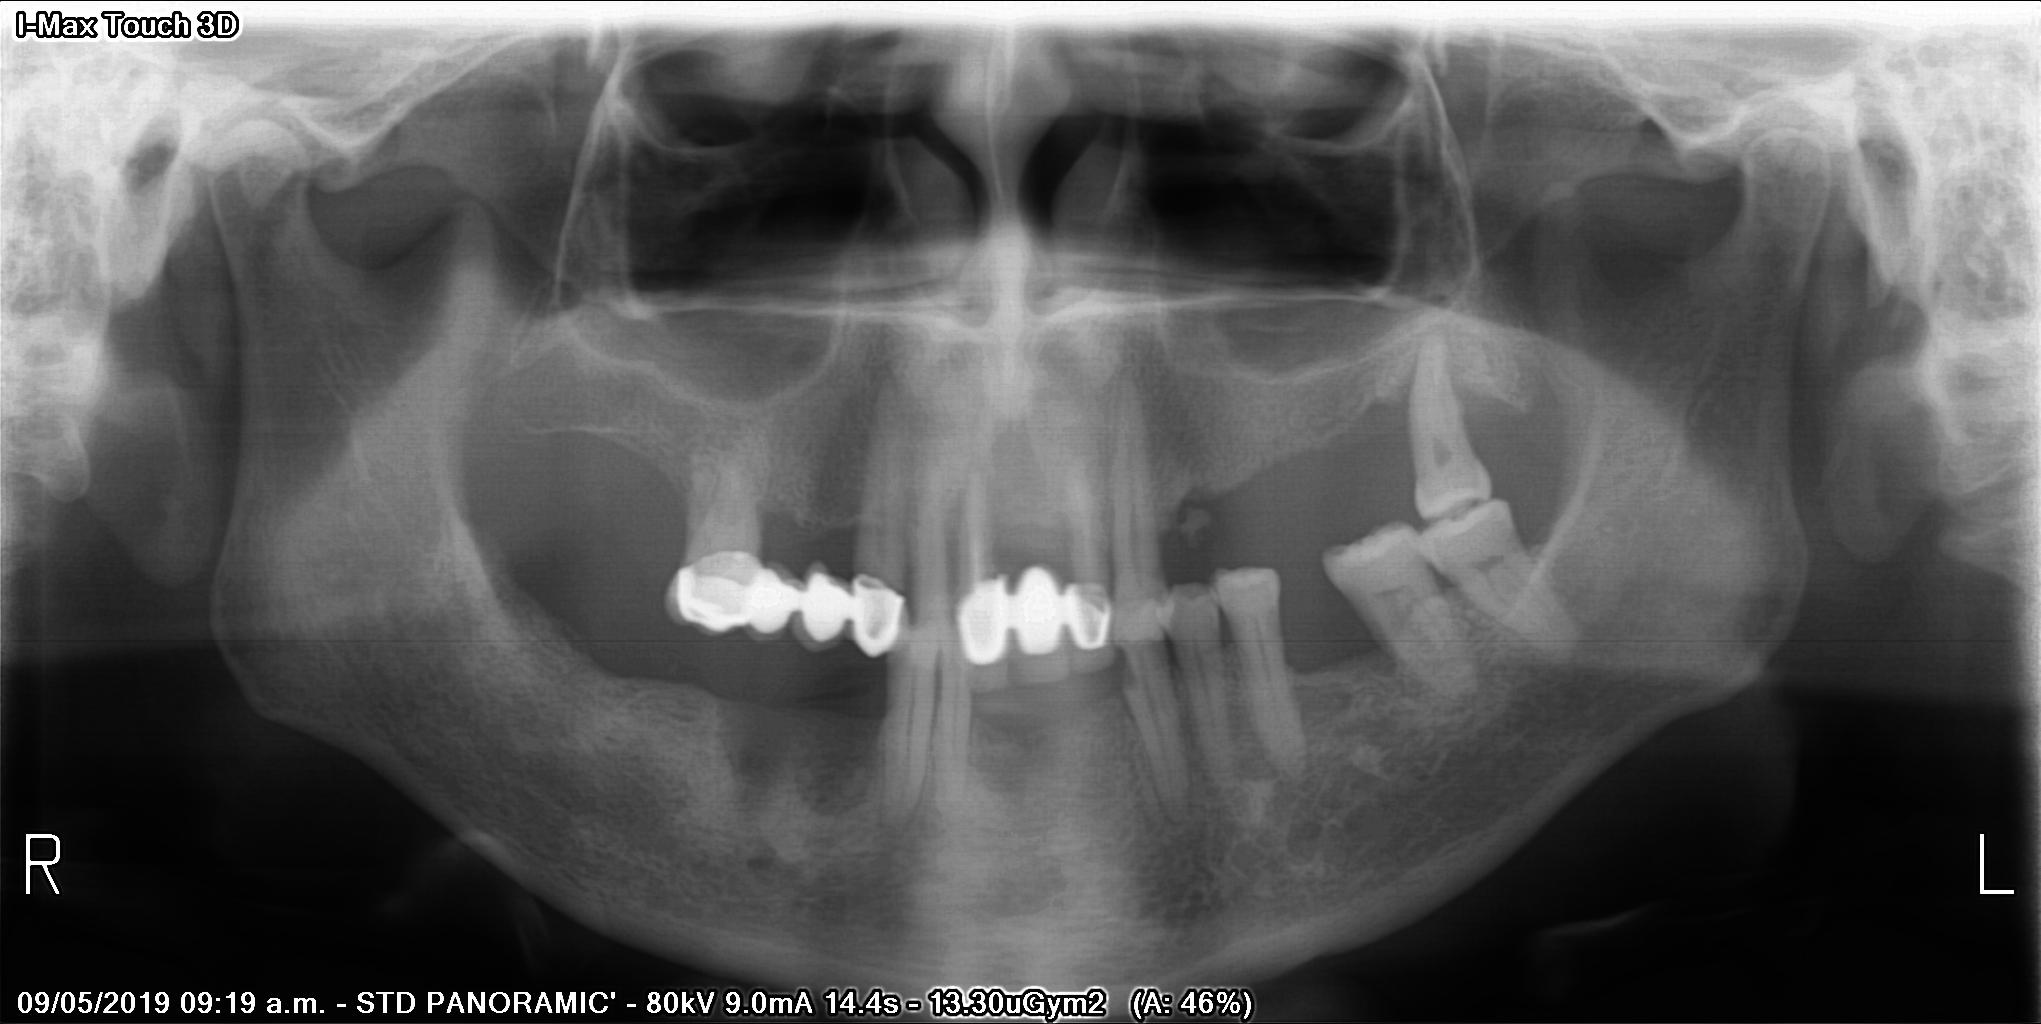Çürük: (656, 539, 763, 633), (951, 585, 1015, 675), (846, 566, 898, 662), (1063, 579, 1113, 656)
Çürük Bölgesi: (1109, 633, 1141, 687), (898, 577, 923, 633)
